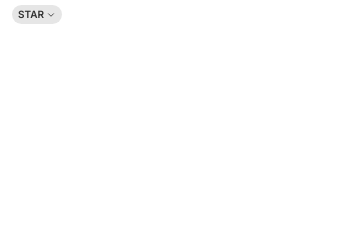
Test case: FormatChip › Dropdown interaction › shows writing style pills in dropdown
Click the button with test id "format-chip".
click(37, 14)  # box [12,5,62,24]
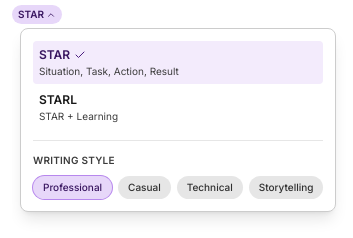
Check: the button "Professional" is shown, box [33,176,112,199]
Check: the button "Casual" is shown, box [118,176,171,199]
Check: the button "Technical" is shown, box [177,176,243,199]
